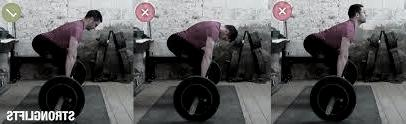Barbell: (186, 106, 196, 116), (321, 108, 333, 116)
